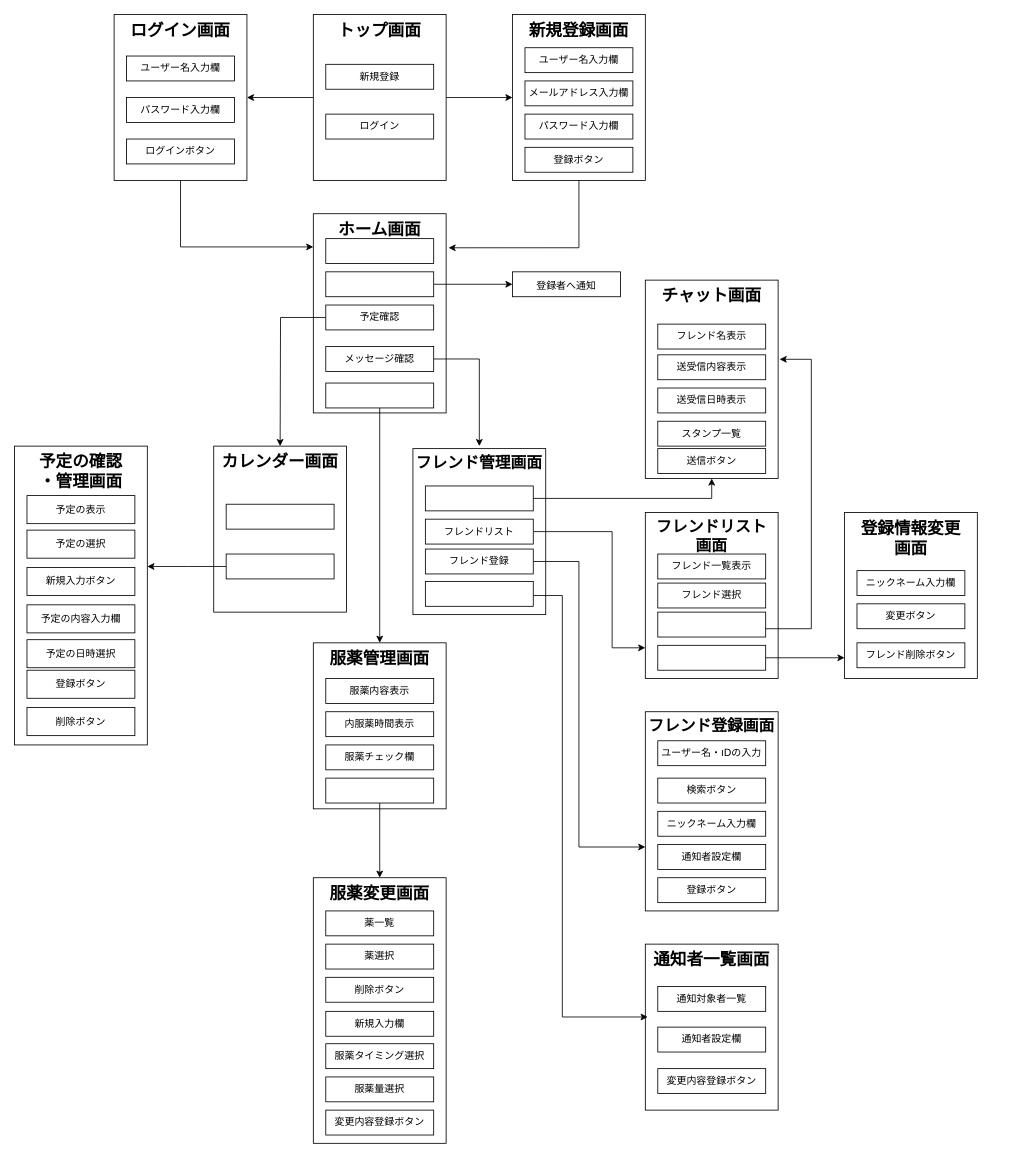
Image size: 1025x1158. Some labels were removed from this diagram. The centre of each missing label's shape, as x and y in pixels:
"カレンダー表示" belongs at [279,516].
"チャット移行ボタン" belongs at [711,624].
"体調選択タップボタン" belongs at [379,284].
"内服薬の追加・変更" belongs at [379,790].
"新着メッセージの確認" belongs at [479,498].
"日付選択" belongs at [279,566].
"日時の表示" belongs at [379,251].
"服薬確認" belongs at [379,395].
"登録情報変更ボタン" belongs at [711,657].
"通知者一覧" belongs at [479,593].
